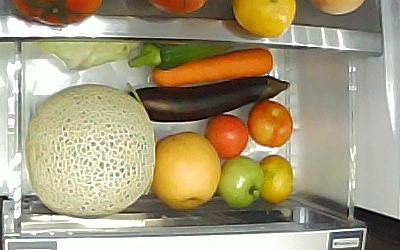cabbage: (33, 41, 141, 70)
carrot: (150, 48, 272, 87)
eggplant: (130, 76, 293, 122)
melon: (25, 84, 154, 218)
pear: (152, 132, 221, 211)
prune: (249, 101, 294, 149)
tangerine: (260, 155, 294, 204)
tomato: (220, 156, 265, 209), (204, 114, 249, 160)
zucchini: (129, 42, 257, 69)
